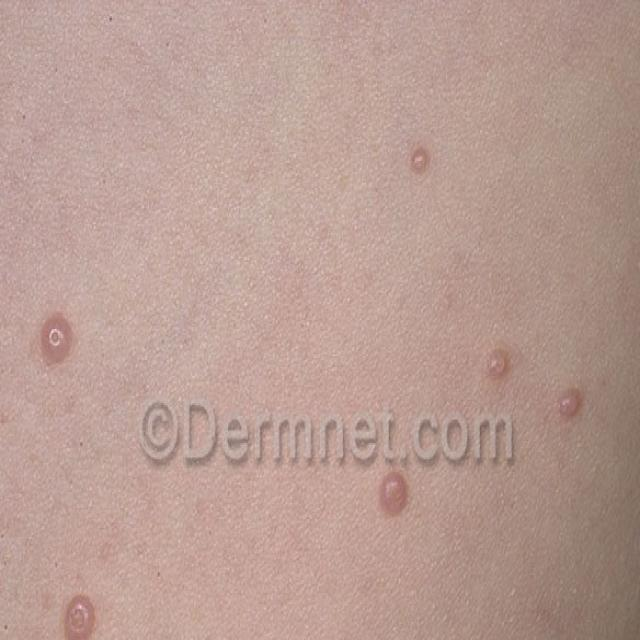Viral Infections: (392, 111, 613, 433), (8, 276, 124, 640), (304, 432, 417, 640)
